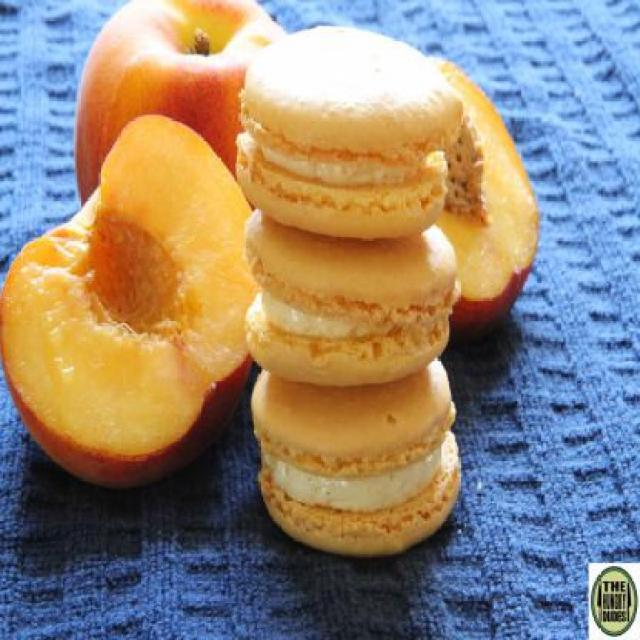Peach: (0, 111, 252, 493), (73, 0, 287, 209), (432, 54, 540, 336)
